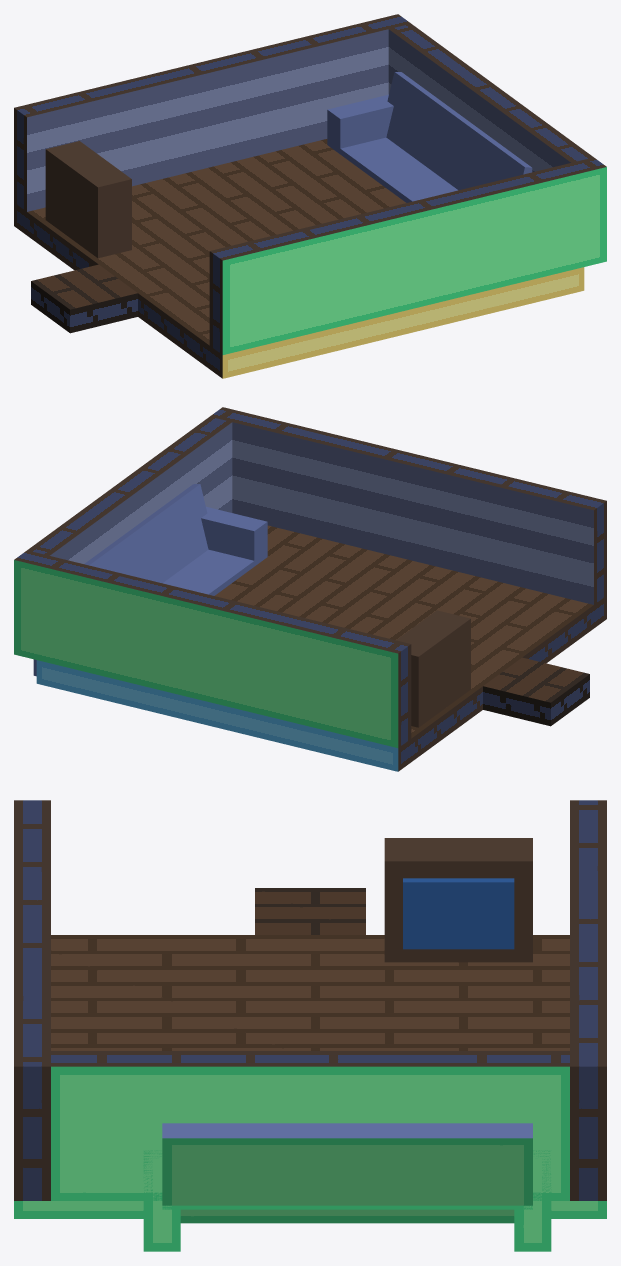
The model's file is ApartamentRoom.gltf.
The picture shows the model from 3 angles, top to bottom: view 1: azimuth 30°, elevation 25°; view 2: azimuth 150°, elevation 25°; view 3: azimuth 270°, elevation 25°; orthographic projection. The views are drawn at different scales.
Parts seen in each view (by area): view 1: wall-col (×3), floor-col, cuboid-col (×3), enterance-col, cuboid; view 2: wall-col (×3), floor-col, cuboid-col (×3), enterance-col, cuboid; view 3: wall-col (×3), floor-col, cuboid-col (×5), enterance-col, cuboid.
Part boxes in pixels (x1,y1,x2,y2): wall-col (×3): [14, 14, 606, 354]; floor-col: [14, 139, 584, 378]; cuboid-col (×3): [45, 72, 532, 258]; enterance-col: [31, 264, 137, 333]; cuboid: [340, 137, 457, 202]; wall-col (×3): [14, 407, 606, 747]; floor-col: [36, 525, 606, 771]; cuboid-col (×3): [84, 484, 470, 727]; enterance-col: [483, 657, 589, 726]; cuboid: [163, 549, 260, 595]; wall-col (×3): [14, 800, 606, 1200]; floor-col: [14, 935, 606, 1218]; cuboid-col (×5): [143, 838, 551, 1251]; enterance-col: [255, 888, 365, 934]; cuboid: [162, 1205, 532, 1209].
Size of the model in its own units: 1.29 by 0.3438 by 1.
1 material, 1 textured.
